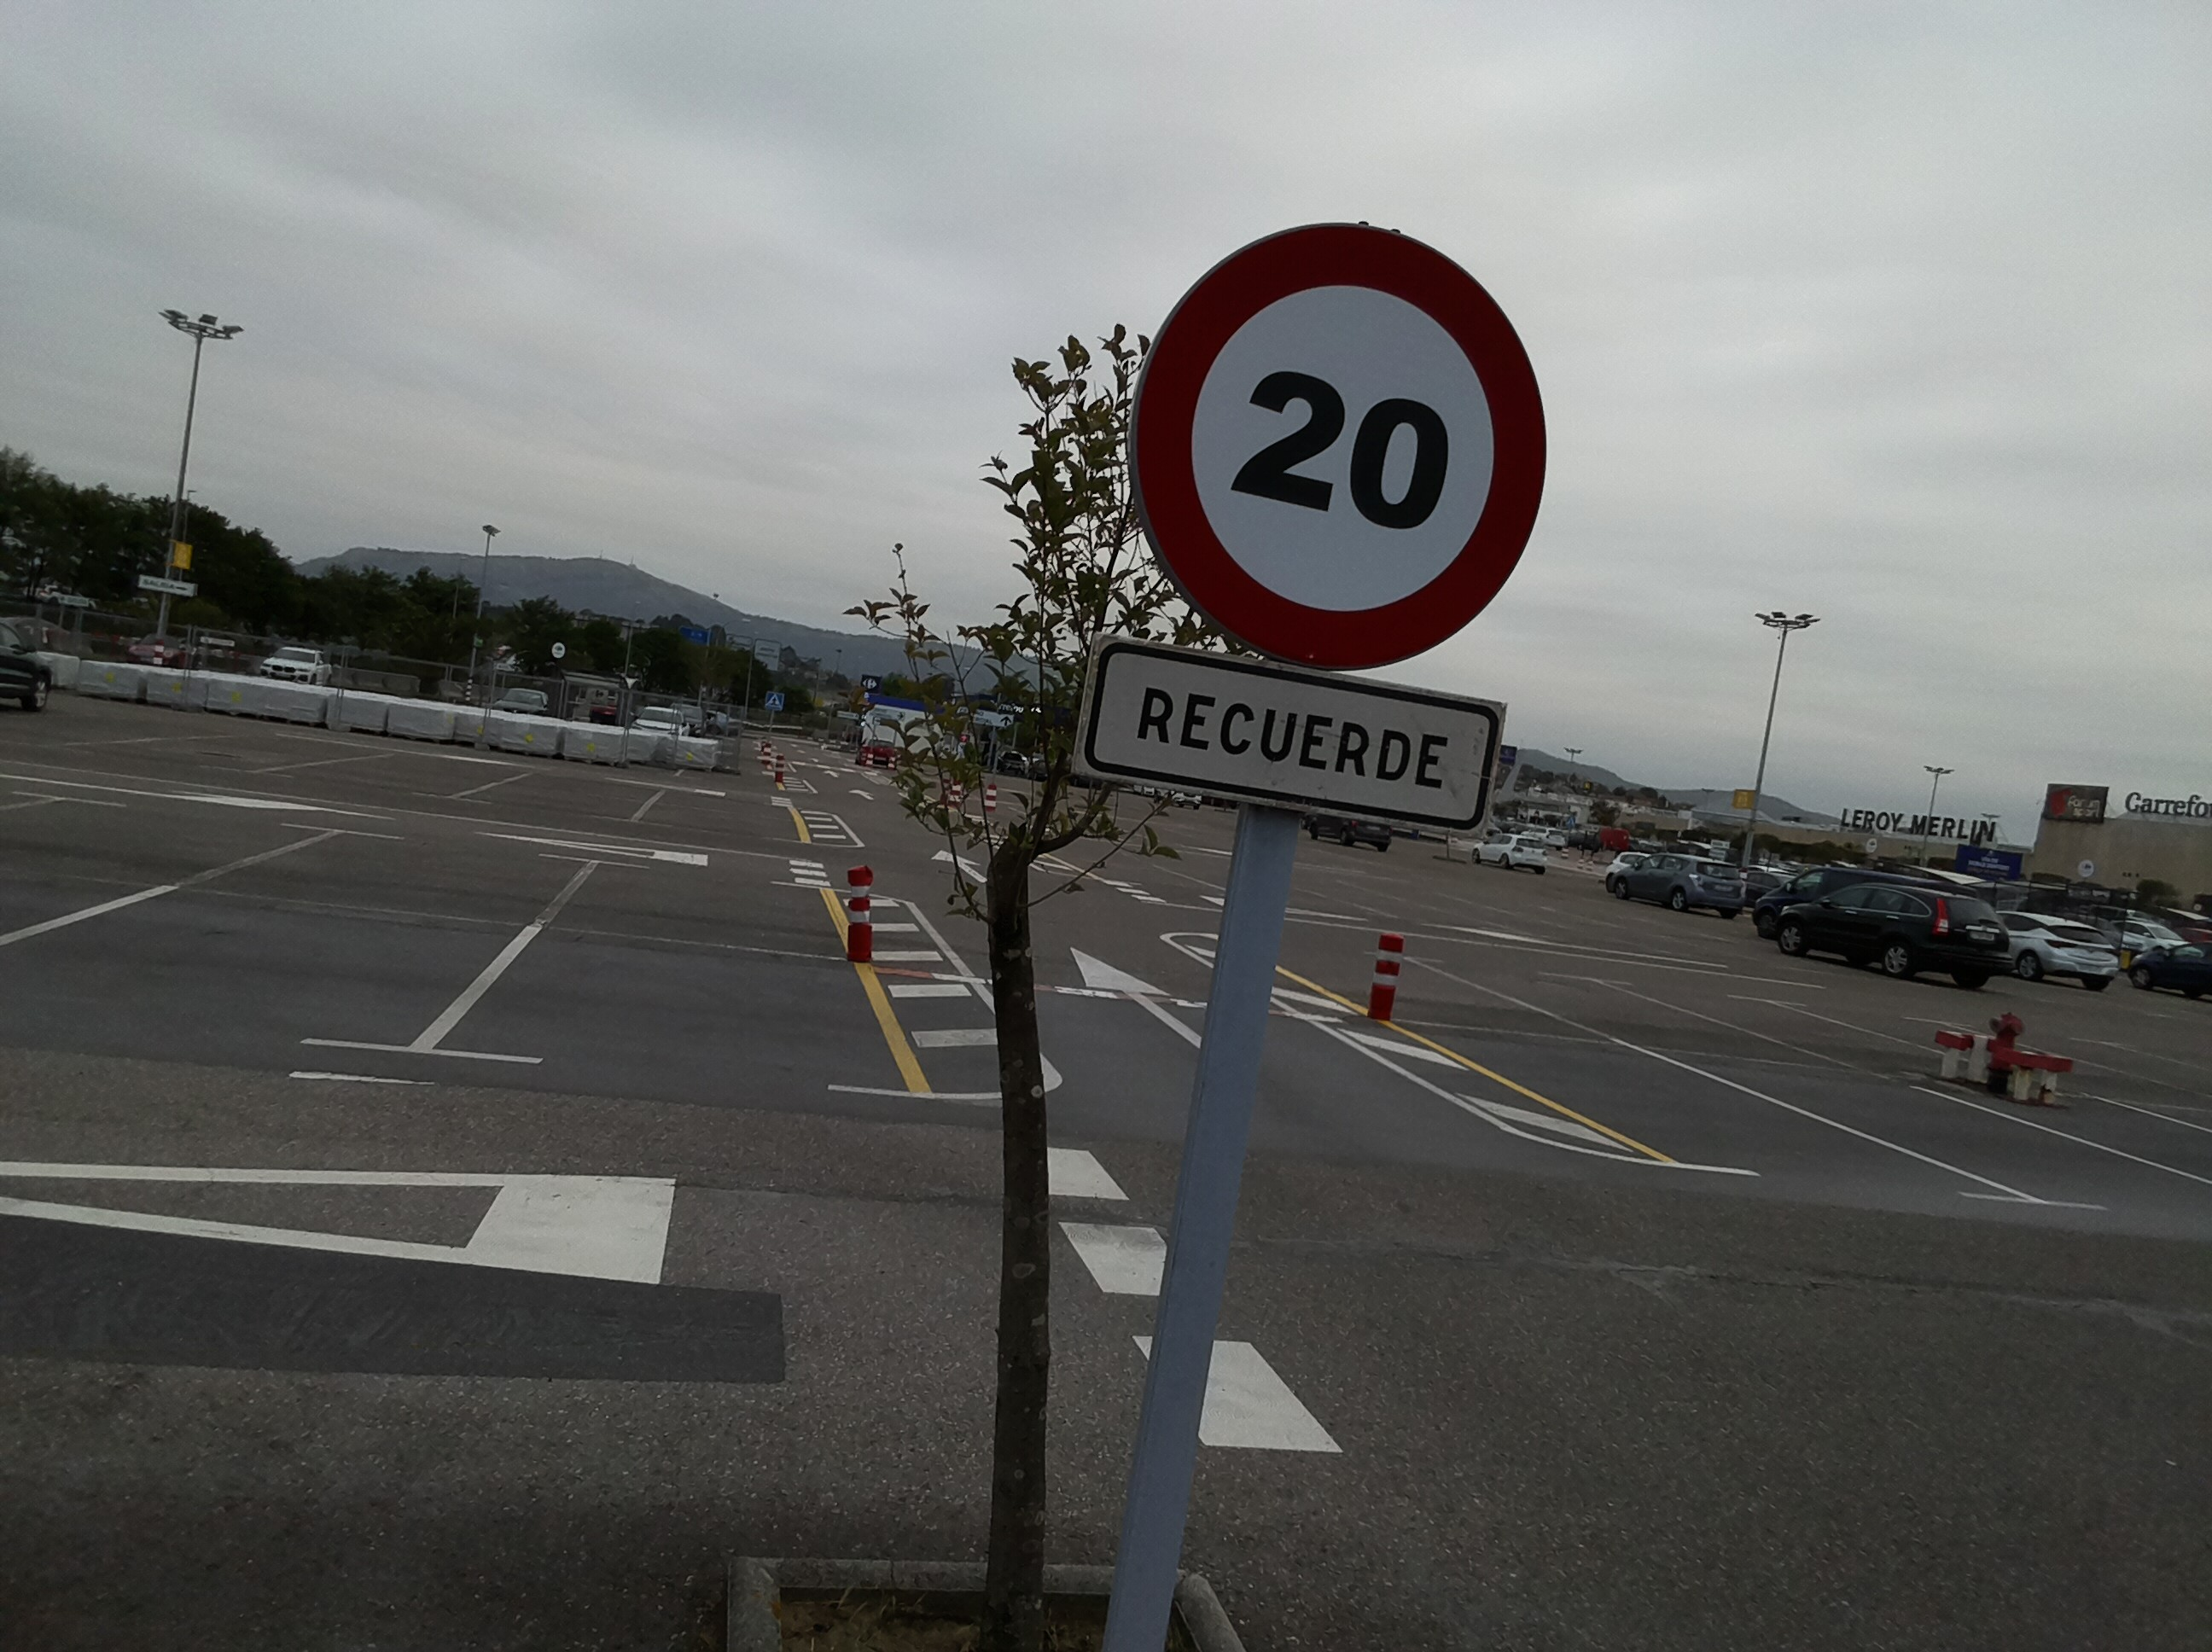Arbol: (887, 330, 1119, 1652)
Cartel: (1103, 180, 1572, 673), (1084, 628, 1506, 847)
Poste: (1124, 753, 1313, 1652)
